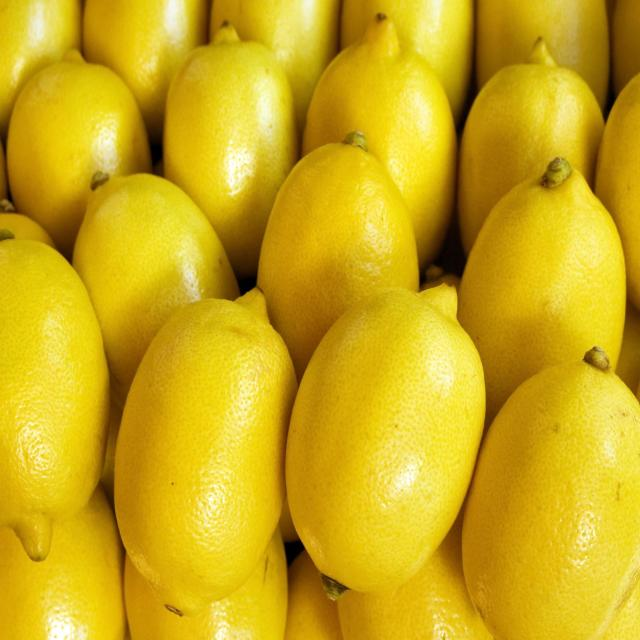lemon: (278, 273, 491, 611), (109, 274, 305, 628), (454, 335, 639, 640)
